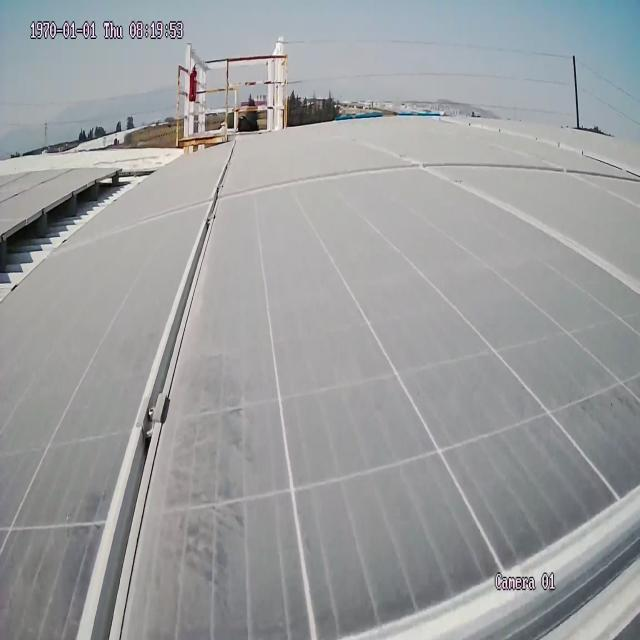interior panel: (37, 127, 640, 640)
outher panel: (0, 162, 166, 314)
